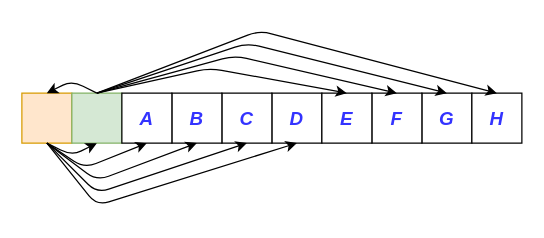
This 544x238 diagram has some shape labels left out. The centre of each missing label's shape, as x and y in pixels:
T1: pixel 46 117
T2: pixel 96 117
